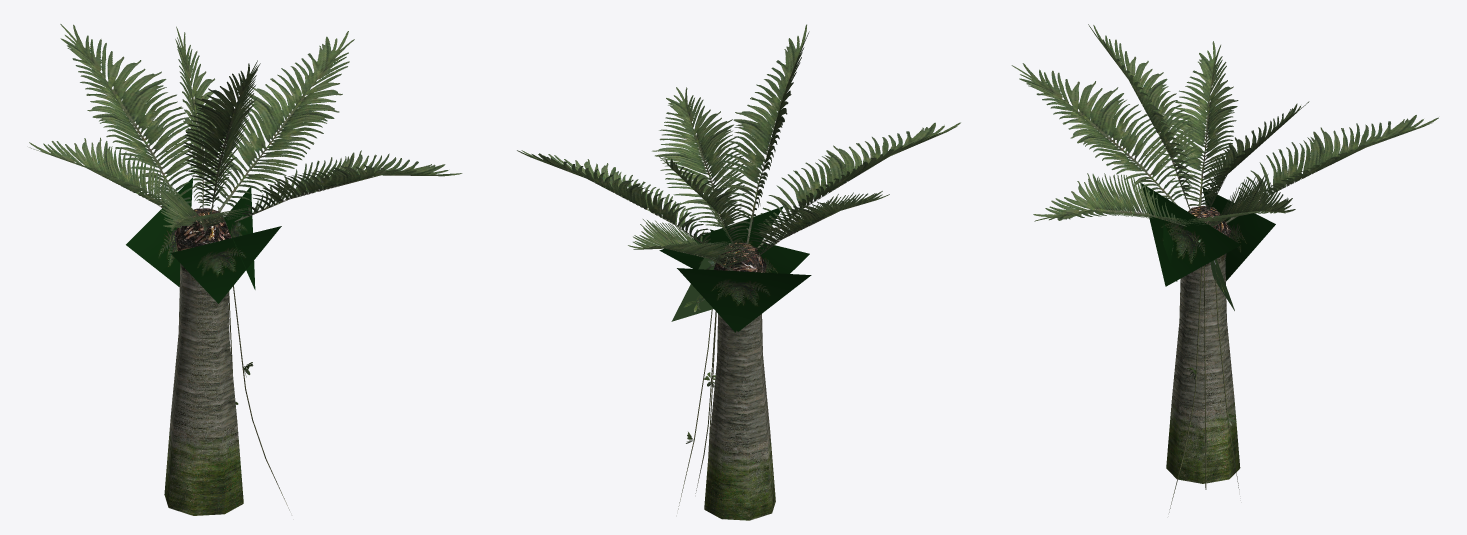
Rendered from ever_palmtree_thk_l0.fbx.
3 renders of one model, left to right at view 1: azimuth 30°, elevation 25°; view 2: azimuth 150°, elevation 25°; view 3: azimuth 270°, elevation 25°, orthographic. The views are drawn at different scales.
Parts seen in each view (by area): view 1: mesh_node; view 2: mesh_node; view 3: mesh_node.
Boxes of the visible parts, box(x1,y1,x2,y2) form: mesh_node: box(29, 24, 462, 515); mesh_node: box(517, 24, 960, 520); mesh_node: box(1011, 24, 1438, 512).
Size of the model in its own units: 10.46 by 13.35 by 11.54.
